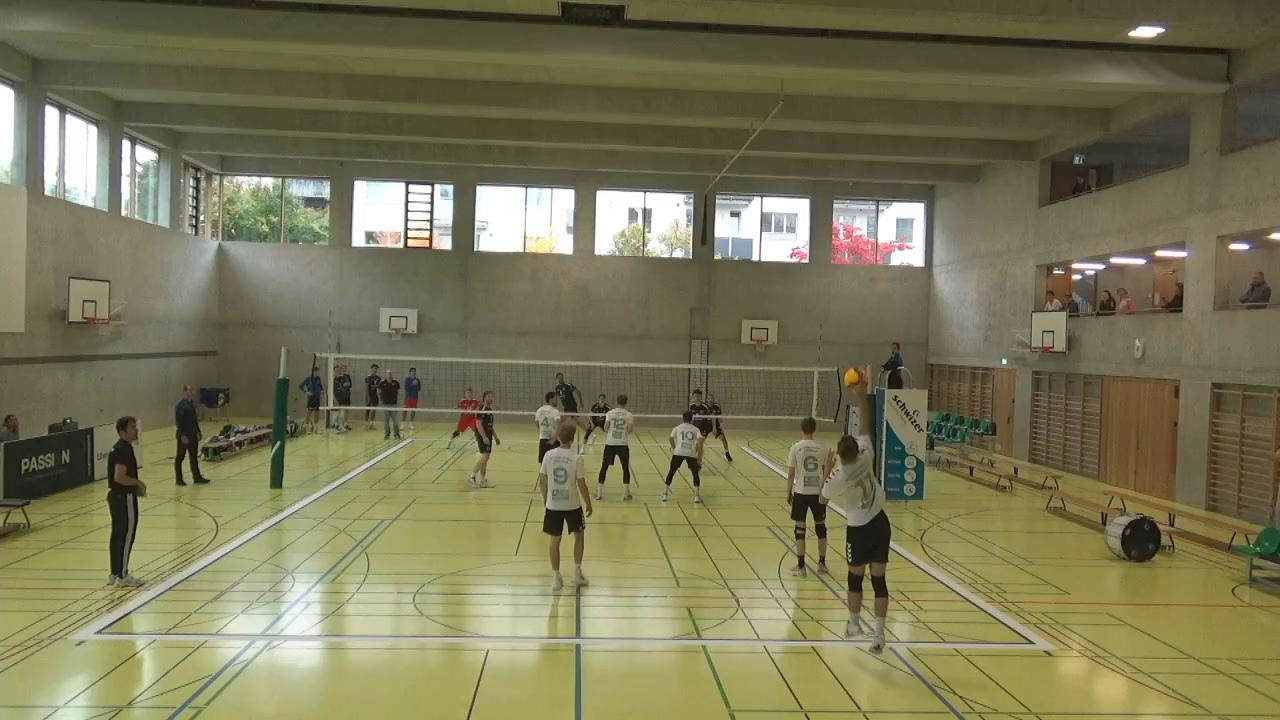battuta: (824, 381, 901, 656)
